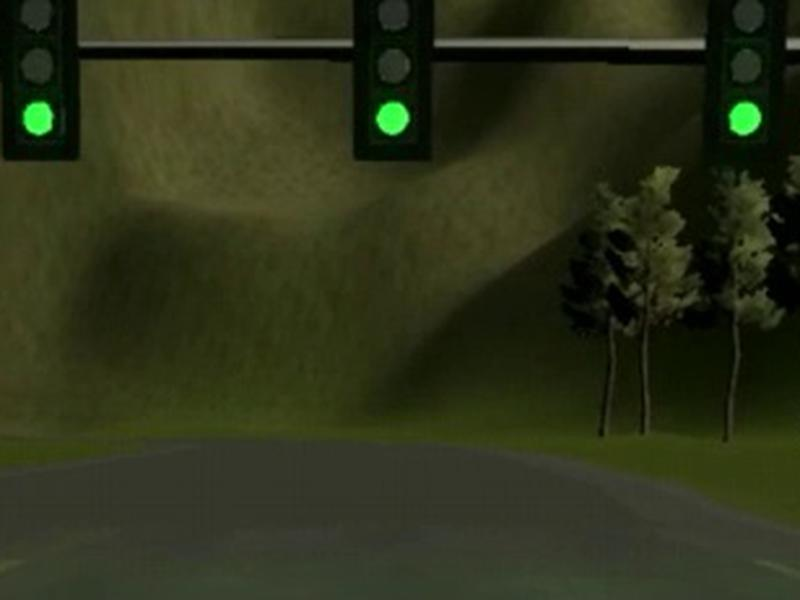Green: (702, 1, 788, 164), (352, 1, 434, 162), (1, 1, 82, 160)
